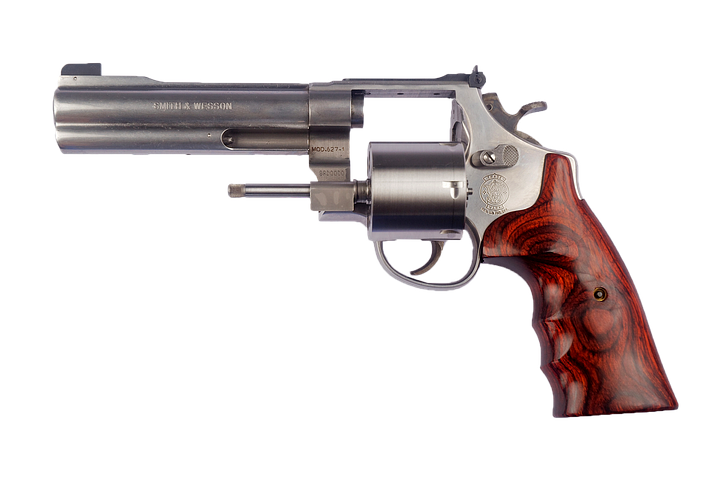gun: (43, 57, 698, 431)
